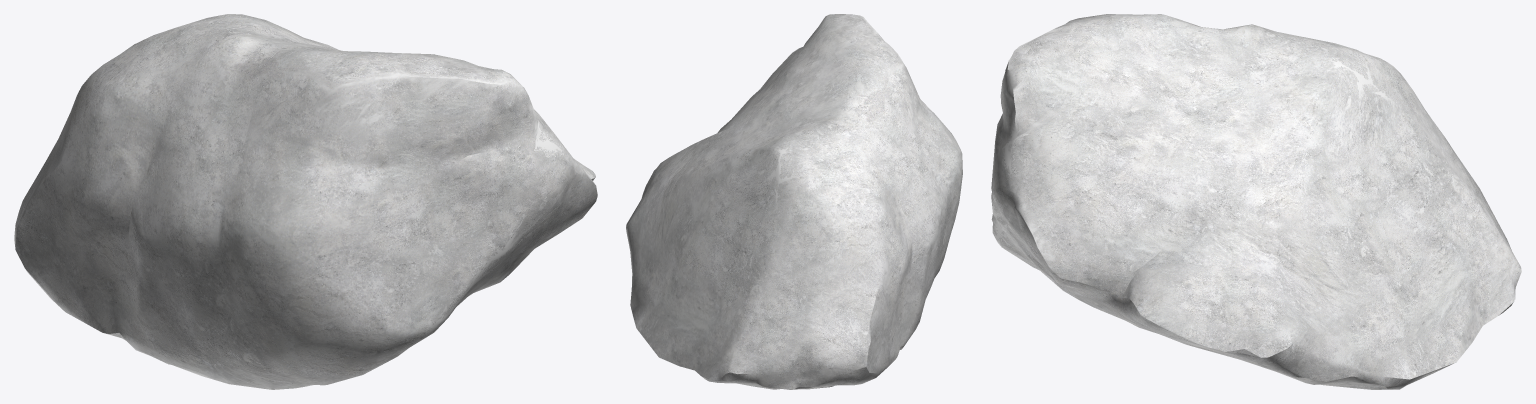
Rendered from rock_00.fbx.
3 renders of one model, left to right at view 1: azimuth 30°, elevation 25°; view 2: azimuth 150°, elevation 25°; view 3: azimuth 270°, elevation 25°, orthographic. The views are drawn at different scales.
Visible parts, largest first — view 1: rock_00; view 2: rock_00; view 3: rock_00.
Boxes of the visible parts, x1=… form: rock_00: x1=14, y1=14, x2=597, y2=389; rock_00: x1=626, y1=14, x2=962, y2=389; rock_00: x1=991, y1=14, x2=1521, y2=389.
Bounding box in the file's own units: 198 × 149 × 226.
